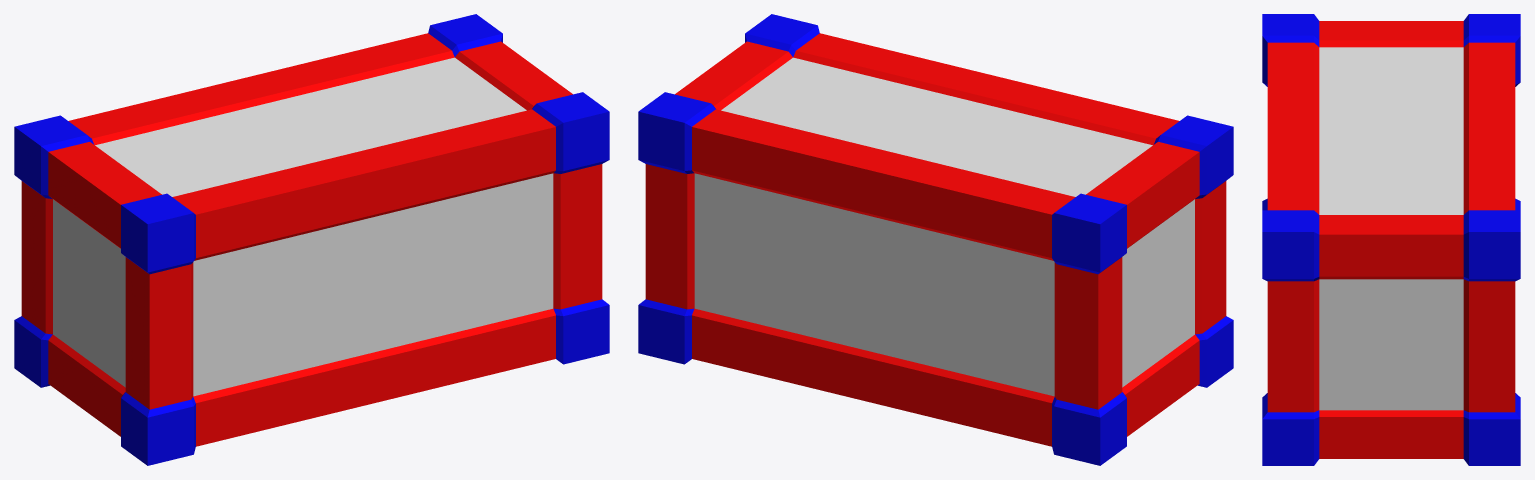
Rendered from Largo.glb.
3 views of the same model, side by side, from view 1: azimuth 30°, elevation 25°; view 2: azimuth 150°, elevation 25°; view 3: azimuth 270°, elevation 25° (orthographic). The views are drawn at different scales.
Parts seen in each view (by area): view 1: Fondo; view 2: Fondo; view 3: Fondo.
Boxes of the visible parts, x1=… form: Fondo: x1=14, y1=14, x2=609, y2=465; Fondo: x1=638, y1=14, x2=1233, y2=465; Fondo: x1=1262, y1=14, x2=1520, y2=465.
Bounding box in the file's own units: 2 × 1 × 1.
